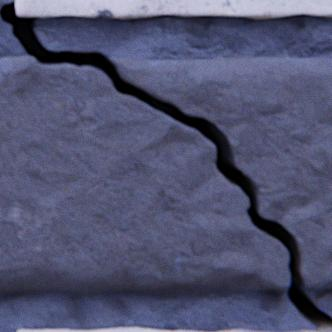brick: (15, 0, 331, 18), (17, 326, 331, 331)
broken_brick: (0, 56, 288, 292), (107, 57, 331, 287)
crack: (0, 1, 331, 329)
